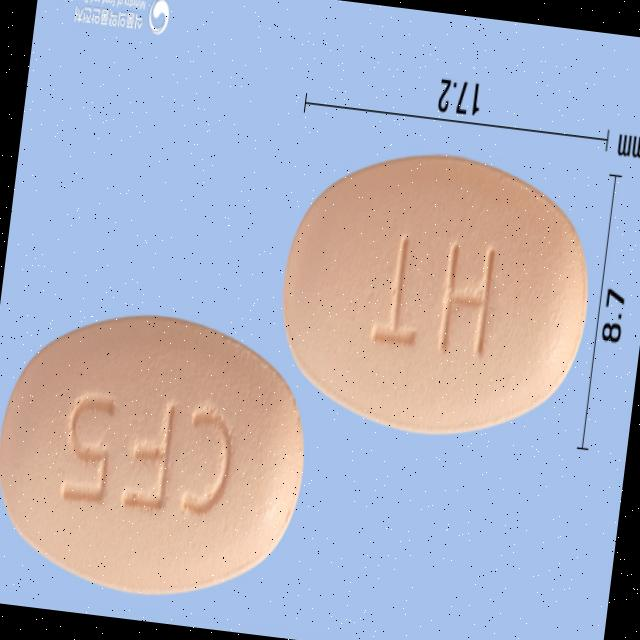Crafroxin Tab: (266, 135, 604, 453), (0, 298, 319, 614)
